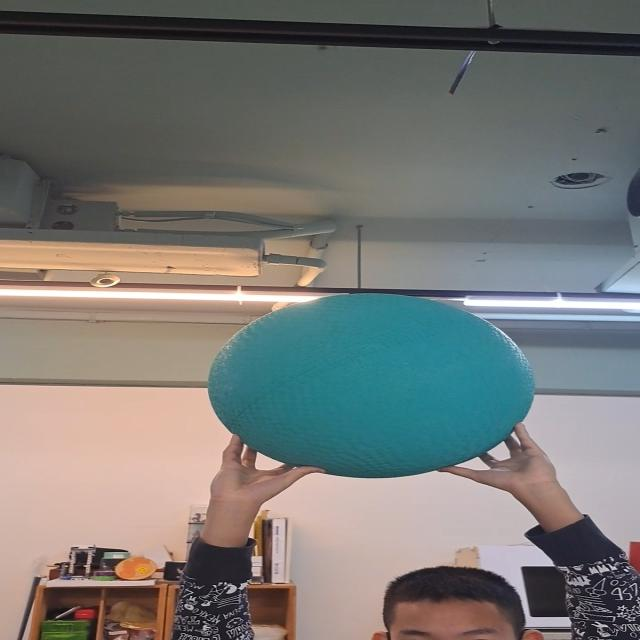ALGAE: (208, 294, 535, 478)
